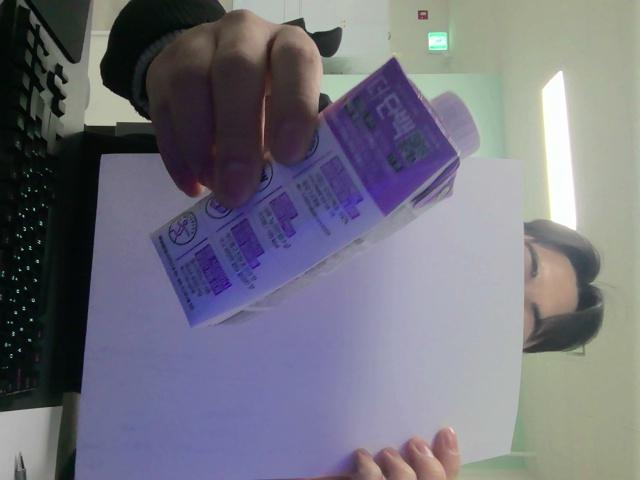milk: (152, 59, 477, 326)
